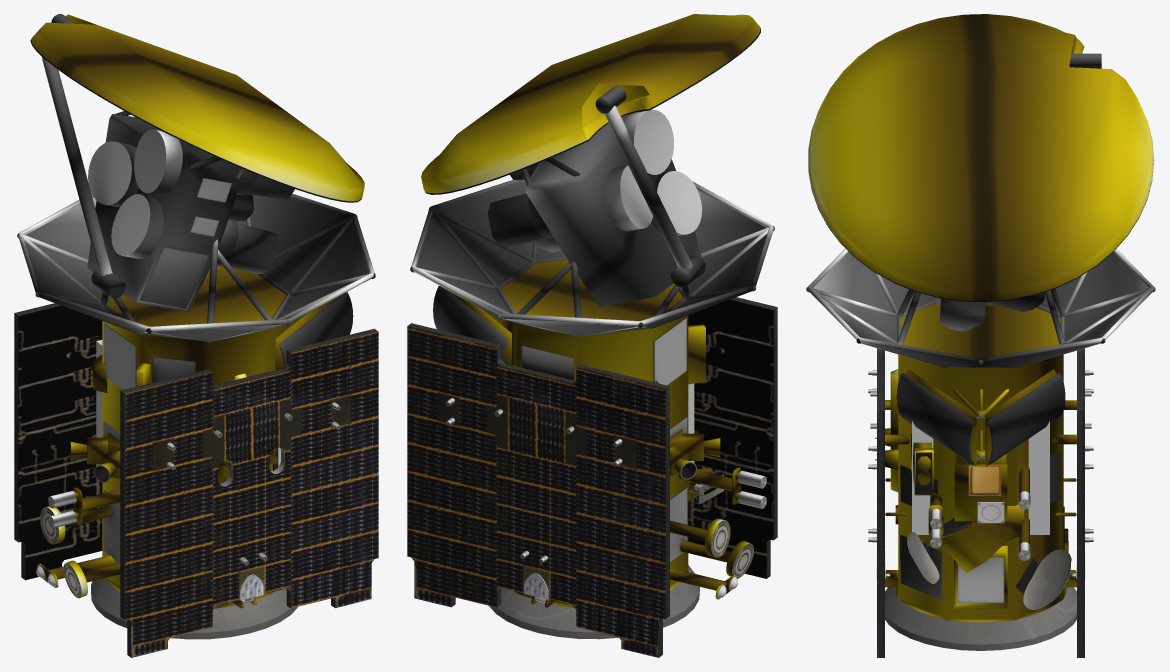
The model's file is Aquarius (B) (compact).glb.
3 renders of one model, left to right at view 1: azimuth 30°, elevation 25°; view 2: azimuth 150°, elevation 25°; view 3: azimuth 270°, elevation 25°, orthographic. The views are drawn at different scales.
Visible parts, largest first — view 1: shiny_panel_left, foil_silver, foil_gold, tex_02, AO_other_ud, tex_01, tex_black; view 2: shiny_panel_right, foil_silver, foil_gold, tex_02, tex_01, AO_other_ud, tex_black; view 3: foil_gold, foil_silver, tex_01, AO_other_ud, _root, tex_black.
Boxes of the visible parts, x1,y1,x2,y2 form: shiny_panel_left: (124, 332, 378, 657); foil_silver: (17, 14, 375, 366); foil_gold: (31, 14, 364, 608); tex_02: (18, 305, 102, 580); AO_other_ud: (36, 129, 278, 587); tex_01: (14, 303, 378, 657); tex_black: (30, 40, 361, 481); shiny_panel_right: (407, 326, 665, 657); foil_silver: (410, 86, 774, 361); foil_gold: (421, 14, 760, 607); tex_02: (688, 299, 773, 578); tex_01: (407, 297, 777, 657); AO_other_ud: (522, 109, 737, 598); tex_black: (425, 28, 760, 478); foil_gold: (808, 14, 1154, 622); foil_silver: (806, 53, 1155, 464); tex_01: (868, 348, 1093, 657); AO_other_ud: (900, 451, 1064, 603); _root: (912, 420, 1049, 534); tex_black: (808, 46, 1154, 493).
Bounding box in the file's own units: 2.53 × 4.27 × 2.53.
Materials: 9 (9 with a texture image).
